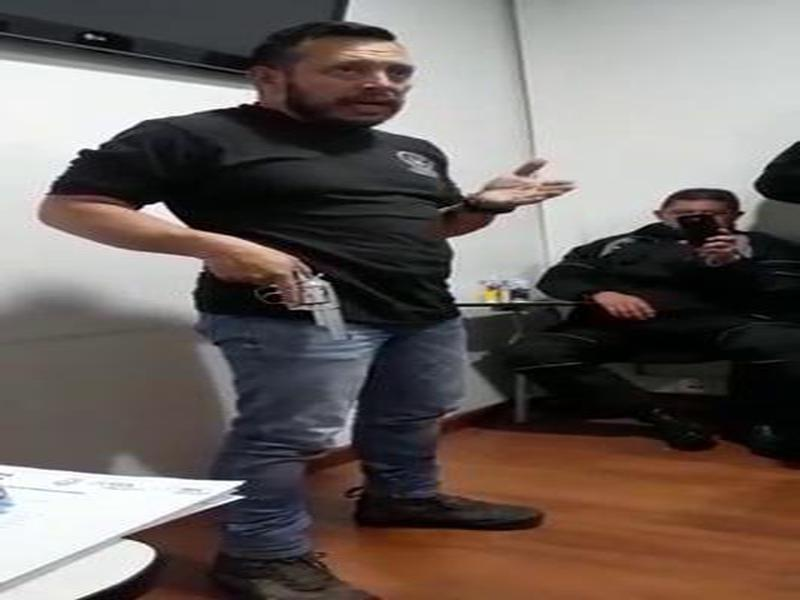Revolver: (247, 262, 359, 347)
